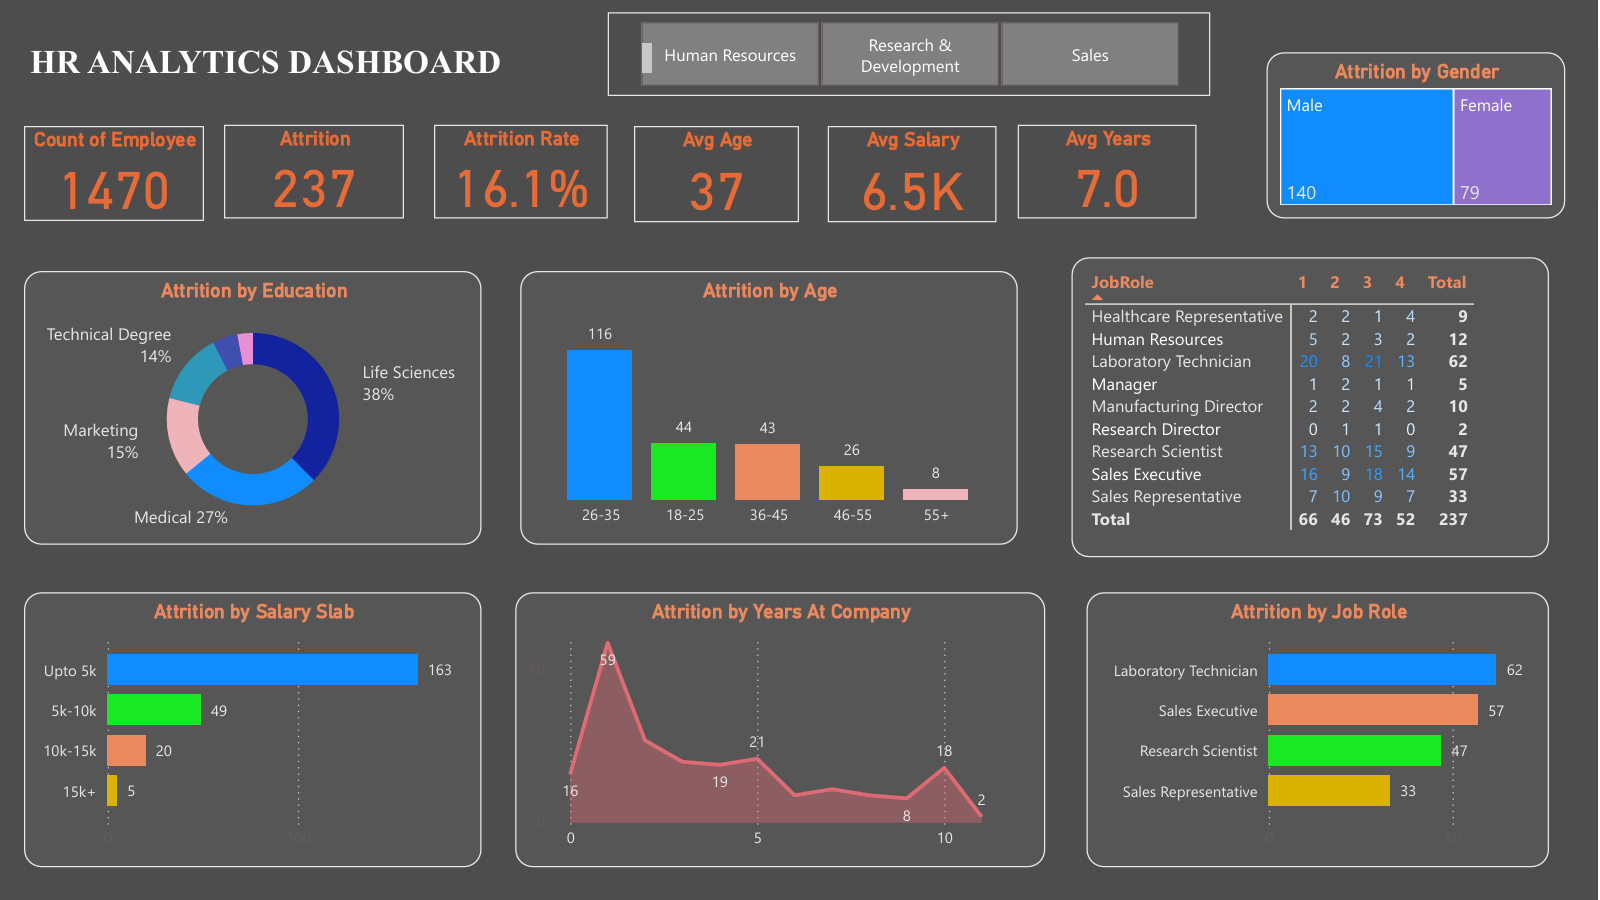

What the dashboard file says about the page in this screenshot:
{"tool":"powerbi","page":{"name":"Page 1","canvas":[1280,720],"ordinal":0},"visuals":[{"type":"card","title":"Count of Employee","fields":{"Values":["CountNonNull(HR_Analytics.EmpID)"]},"box":[19.8,100,152.3,76.7],"z":0},{"type":"card","title":"Attrition","fields":{"Values":["Sum(HR_Analytics.AttritionCount)"]},"box":[180.2,98.8,144.2,75.6],"z":1000},{"type":"card","title":"Attrition Rate","fields":{"Values":["HR_Analytics.AttritionRate"]},"box":[347.7,98.8,139.5,75.6],"z":2000},{"type":"card","title":"Avg  Age","fields":{"Values":["Avg(HR_Analytics.Age)"]},"box":[508.1,100,131.4,76.7],"z":3000},{"type":"card","title":"Avg Salary","fields":{"Values":["Avg(HR_Analytics.MonthlyIncome)"]},"box":[662.8,100,134.9,76.7],"z":4000},{"type":"card","title":"Avg Years","fields":{"Values":["Avg(HR_Analytics.YearsAtCompany)"]},"box":[815.1,98.8,143,75.6],"z":5000},{"type":"donutChart","title":"Attrition by Education","fields":{"Category":["HR_Analytics.EducationField"],"Y":["Sum(HR_Analytics.AttritionCount)"]},"box":[19.8,216.3,366.3,218.6],"z":6000},{"type":"columnChart","title":"Attrition by Age","fields":{"Category":["HR_Analytics.AgeGroup"],"Y":["Sum(HR_Analytics.AttritionCount)"]},"box":[417.4,216.3,397.7,218.6],"z":7000},{"type":"pivotTable","fields":{"Rows":["HR_Analytics.JobRole"],"Columns":["HR_Analytics.JobSatisfaction"],"Values":["Sum(HR_Analytics.AttritionCount)"]},"box":[858.1,204.7,381.4,240.7],"z":8000},{"type":"barChart","title":"Attrition by Salary Slab","fields":{"Category":["HR_Analytics.SalarySlab"],"Y":["Sum(HR_Analytics.AttritionCount)"]},"box":[19.8,473.3,366.3,219.8],"z":9000},{"type":"barChart","title":"Attrition by Job Role","fields":{"Y":["Sum(HR_Analytics.AttritionCount)"],"Category":["HR_Analytics.JobRole"]},"box":[869.8,473.3,369.8,219.8],"z":10000},{"type":"areaChart","title":"Attrition by Years At Company","fields":{"Category":["HR_Analytics.YearsAtCompany"],"Y":["Sum(HR_Analytics.AttritionCount)"]},"box":[412.8,473.3,424.4,219.8],"z":11000},{"type":"treemap","title":"Attrition by Gender","fields":{"Group":["HR_Analytics.Gender"],"Values":["Sum(HR_Analytics.AttritionCount)"]},"box":[1014,40.7,239.5,133.7],"z":12000},{"type":"slicer","fields":{"Values":["HR_Analytics.Department"]},"box":[487.2,9.3,481.4,66.3],"z":13000},{"type":"textbox","box":[19.8,29.1,508.1,37.2],"z":14000}]}

Visuals, with their boxes in screenshot pixels (x1, y1, x2, y2), scaled from the page's 1280x720 canvas onto the 1600x900 screenshot:
"Count of Employee" card: (25, 125, 215, 221)
"Attrition" card: (225, 124, 406, 218)
"Attrition Rate" card: (435, 124, 609, 218)
"Avg  Age" card: (635, 125, 799, 221)
"Avg Salary" card: (828, 125, 997, 221)
"Avg Years" card: (1019, 124, 1198, 218)
"Attrition by Education" donutChart: (25, 270, 483, 544)
"Attrition by Age" columnChart: (522, 270, 1019, 544)
pivotTable - HR_Analytics.JobRole x HR_Analytics.JobSatisfaction: (1073, 256, 1549, 557)
"Attrition by Salary Slab" barChart: (25, 592, 483, 866)
"Attrition by Job Role" barChart: (1087, 592, 1550, 866)
"Attrition by Years At Company" areaChart: (516, 592, 1046, 866)
"Attrition by Gender" treemap: (1268, 51, 1567, 218)
slicer - HR_Analytics.Department: (609, 12, 1211, 94)
textbox: (25, 36, 660, 83)
